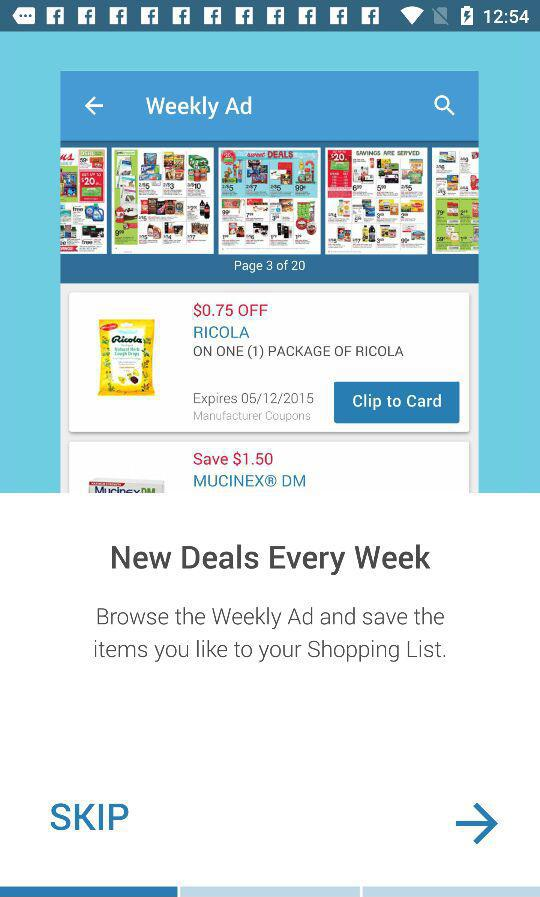Icon: (456, 802, 499, 845)
Image: (60, 71, 480, 494)
Text: (94, 606, 447, 664), (111, 542, 432, 577), (50, 802, 130, 832)
UpperTaskBar: (1, 1, 540, 33)
